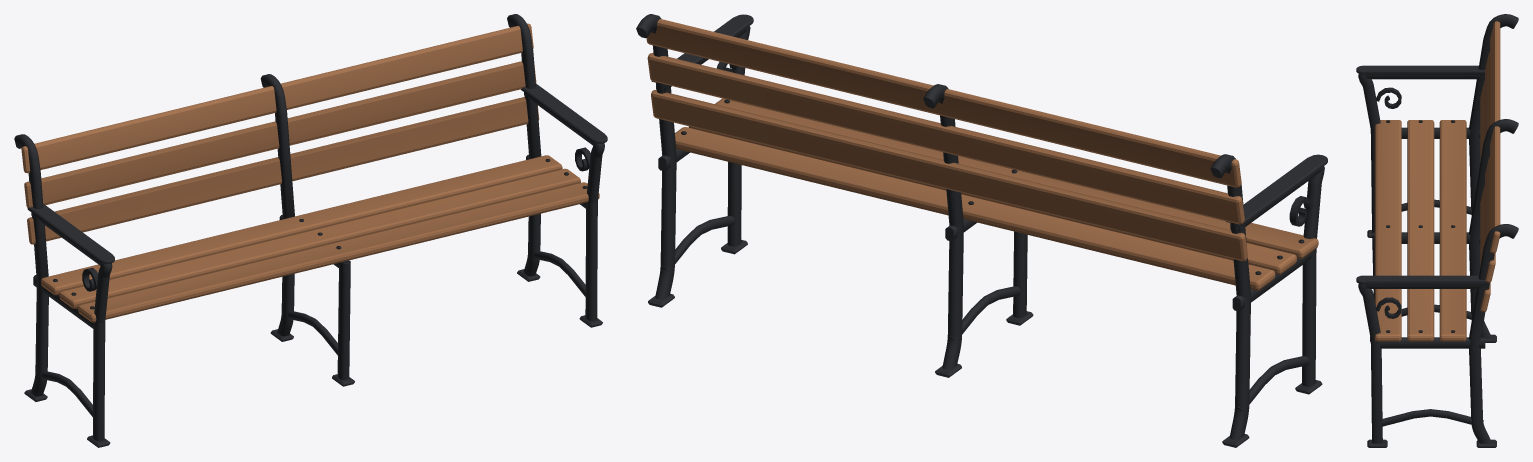
The model's file is benchGarden3.glb.
The picture shows the model from 3 angles, left to right: view 1: azimuth 30°, elevation 25°; view 2: azimuth 150°, elevation 25°; view 3: azimuth 270°, elevation 25°; orthographic projection. The views are drawn at different scales.
Parts seen in each view (by area): view 1: benchGarden3; view 2: benchGarden3; view 3: benchGarden3.
Boxes of the visible parts, box(x1,y1,x2,y2) form: benchGarden3: box(14, 14, 607, 447); benchGarden3: box(636, 14, 1327, 447); benchGarden3: box(1356, 14, 1518, 447).
Size of the model in its own units: 1.9 by 0.9042 by 0.6026.
